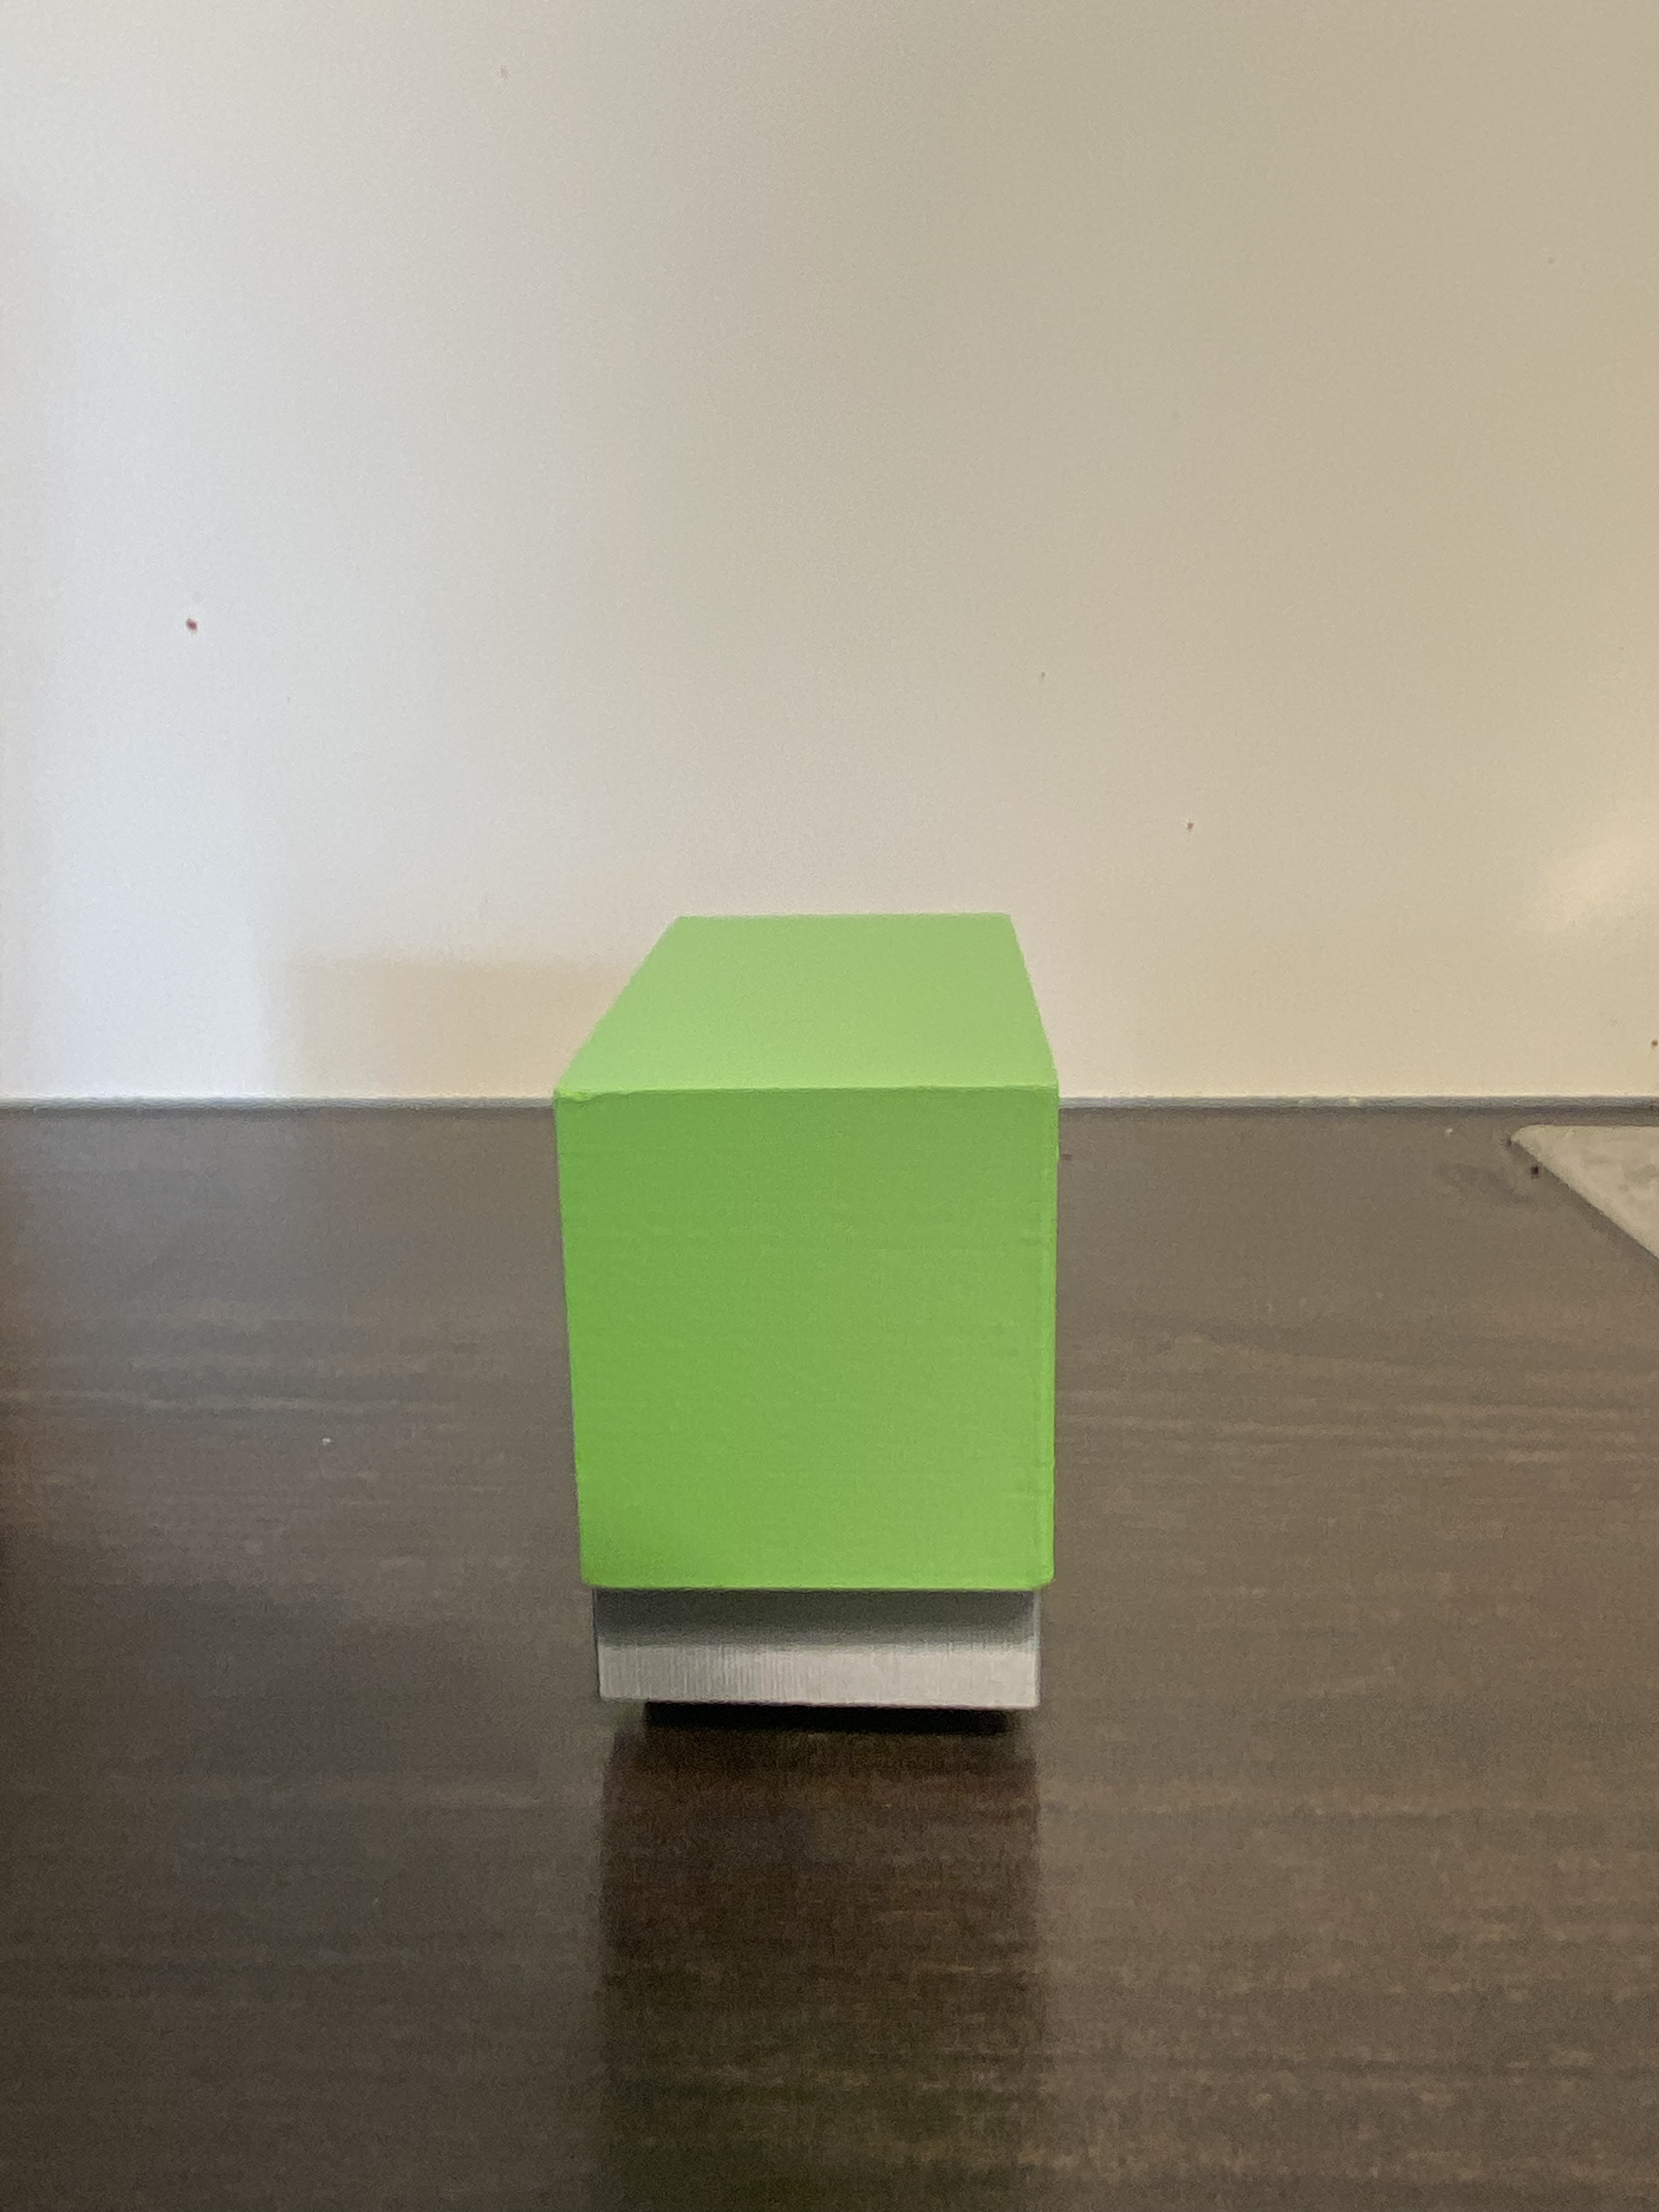green_truck: (552, 909, 1051, 1733)
